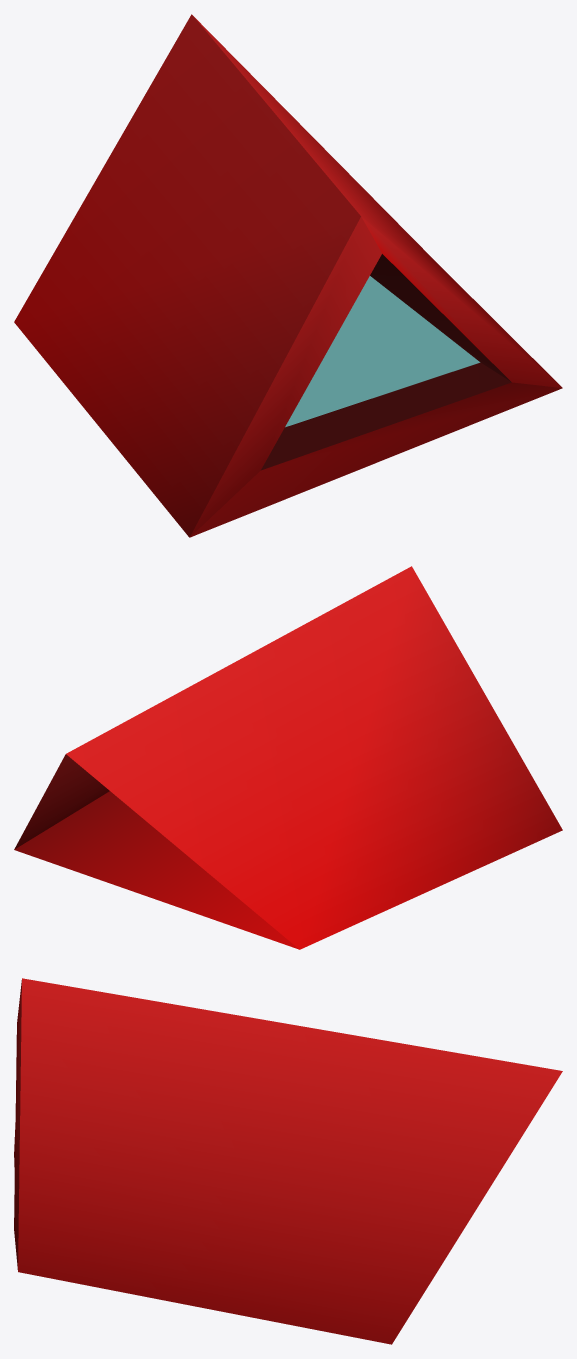
The model's file is c_roof_skylight_aa.fbx.
3 views of the same model, one above another, from view 1: azimuth 30°, elevation 25°; view 2: azimuth 150°, elevation 25°; view 3: azimuth 270°, elevation 25° (orthographic). The views are drawn at different scales.
Visible parts, largest first — view 1: c_roof_skylight_aa; view 2: c_roof_skylight_aa; view 3: c_roof_skylight_aa.
Part boxes in pixels (bbox=[...]): c_roof_skylight_aa: bbox=[14, 14, 562, 537]; c_roof_skylight_aa: bbox=[14, 566, 562, 949]; c_roof_skylight_aa: bbox=[14, 978, 562, 1344].
Bounding box in the file's own units: 2.41 × 1.4 × 2.73.
